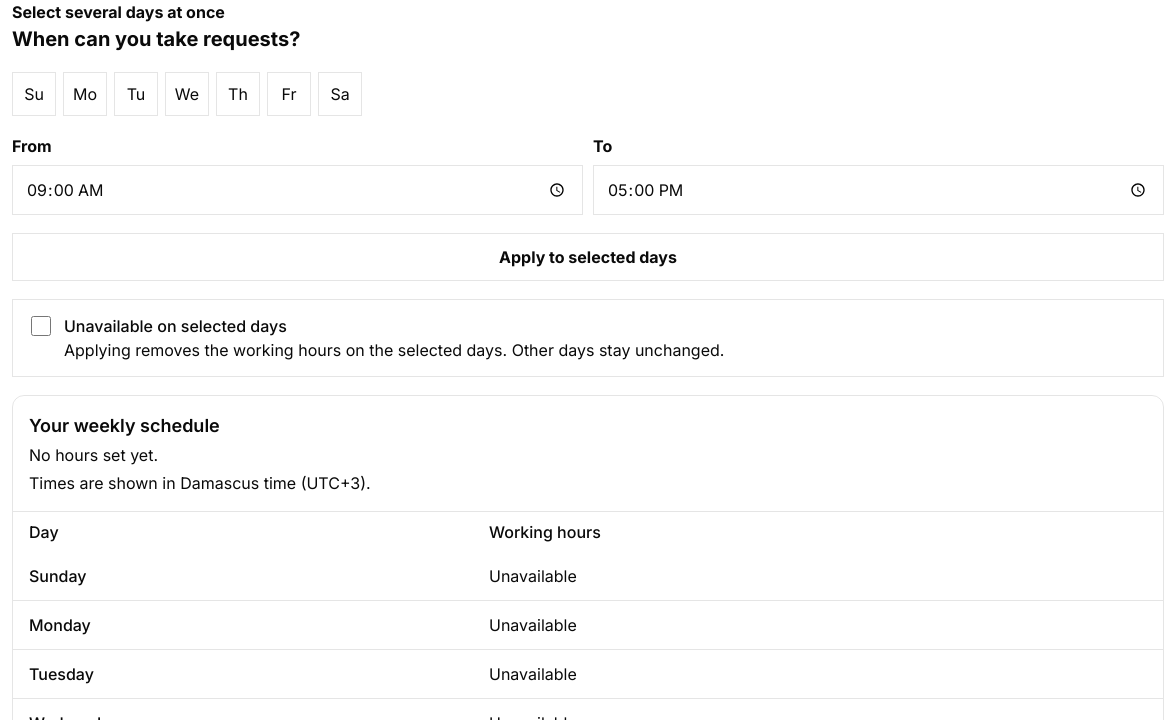
it: saving, and saying so truthfully › surfaces a CONCURRENCY conflict as a conflict, not as a generic error
What coordinates should you click on to do the following:
click the button with test id "day-toggle-1"
I would click on:
 (85, 94)
Its box is [63,72,107,116].
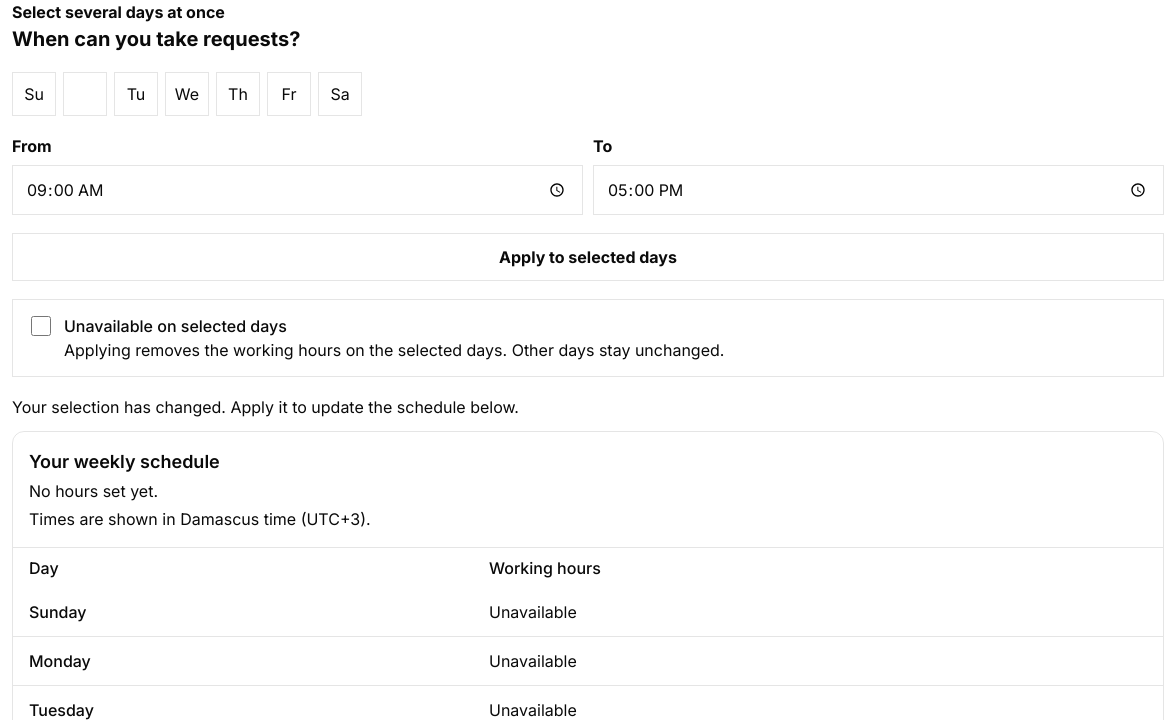
What coordinates should you click on to do the following:
click the button with test id "day-toggle-2"
I would click on:
 (136, 94)
Its box is [114,72,158,116].
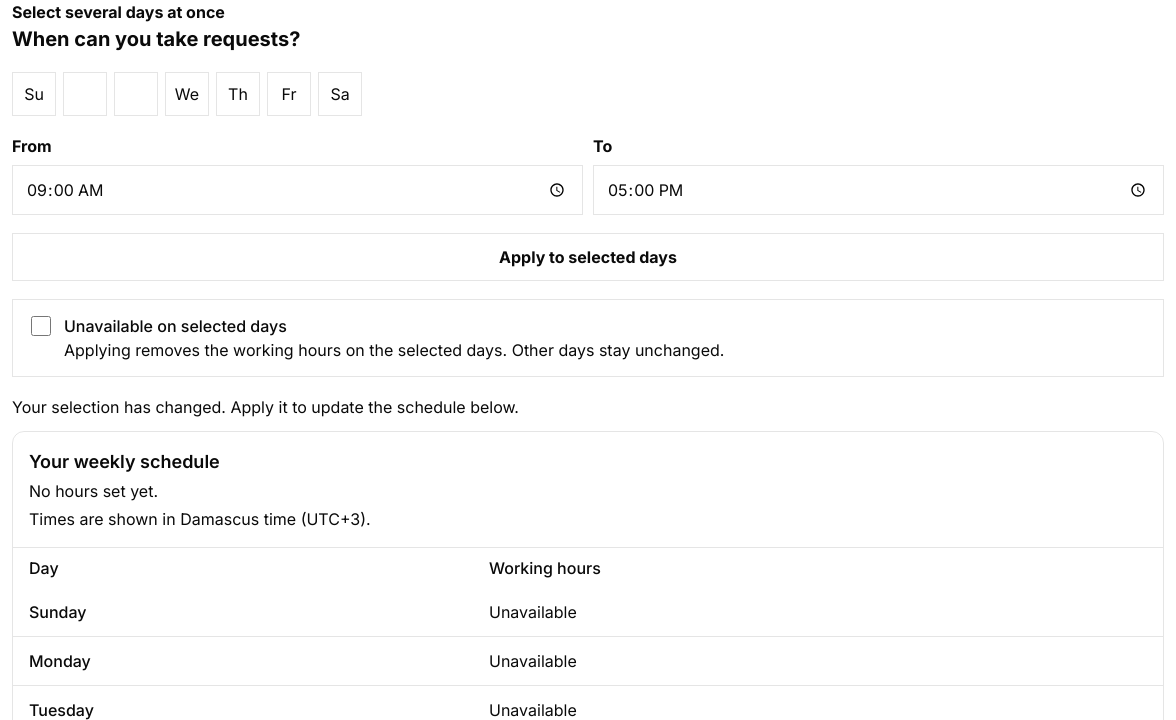
What coordinates should you click on to do the following:
click the button with test id "day-toggle-3"
I would click on:
 (187, 94)
Its box is [165,72,209,116].
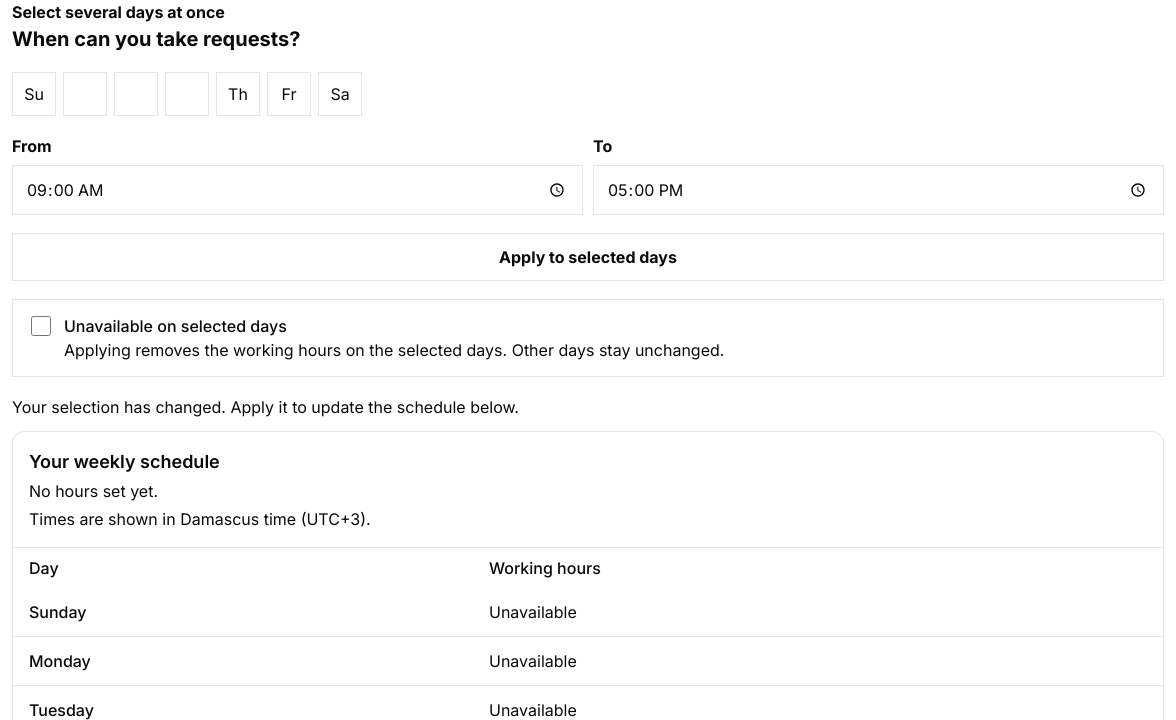
What coordinates should you click on to do the following:
click the button with test id "day-toggle-4"
I would click on:
 (238, 94)
Its box is [216,72,260,116].
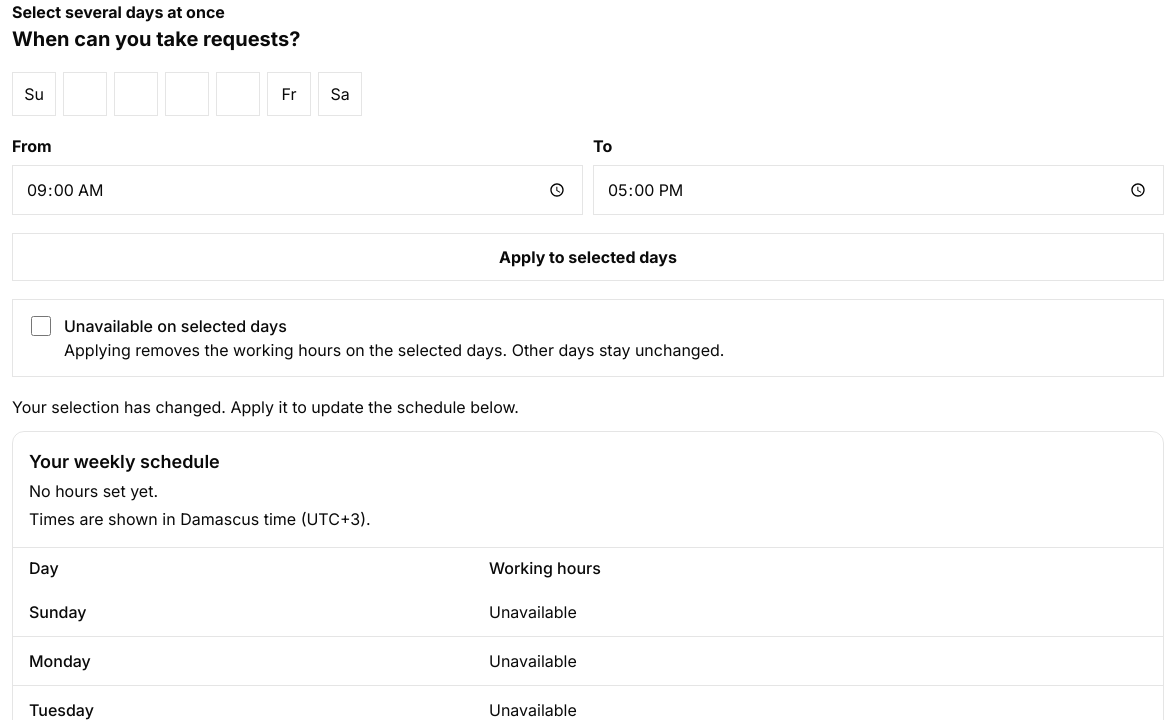
What coordinates should you click on to do the following:
click the button "Fr"
I would click on:
 (289, 94)
Its box is [267,72,311,116].
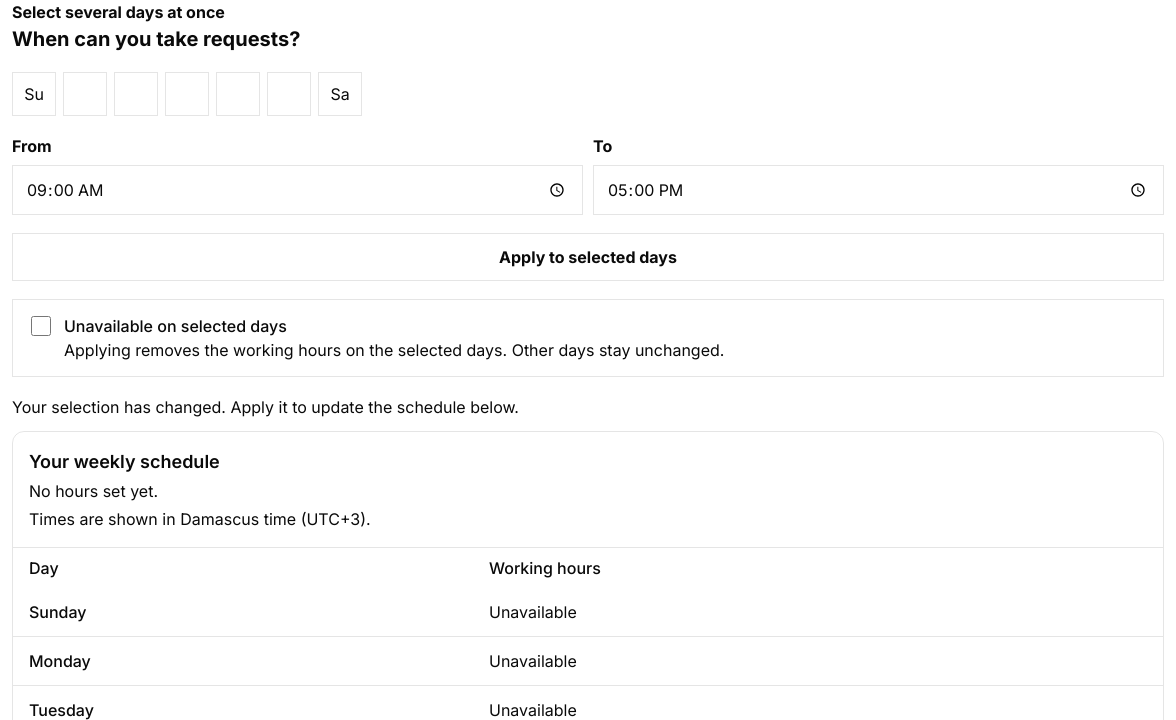
What coordinates should you click on to do the following:
click the button with test id "apply-to-selected"
I would click on:
 (588, 257)
Its box is [12,233,1164,281].
(page scrolled)
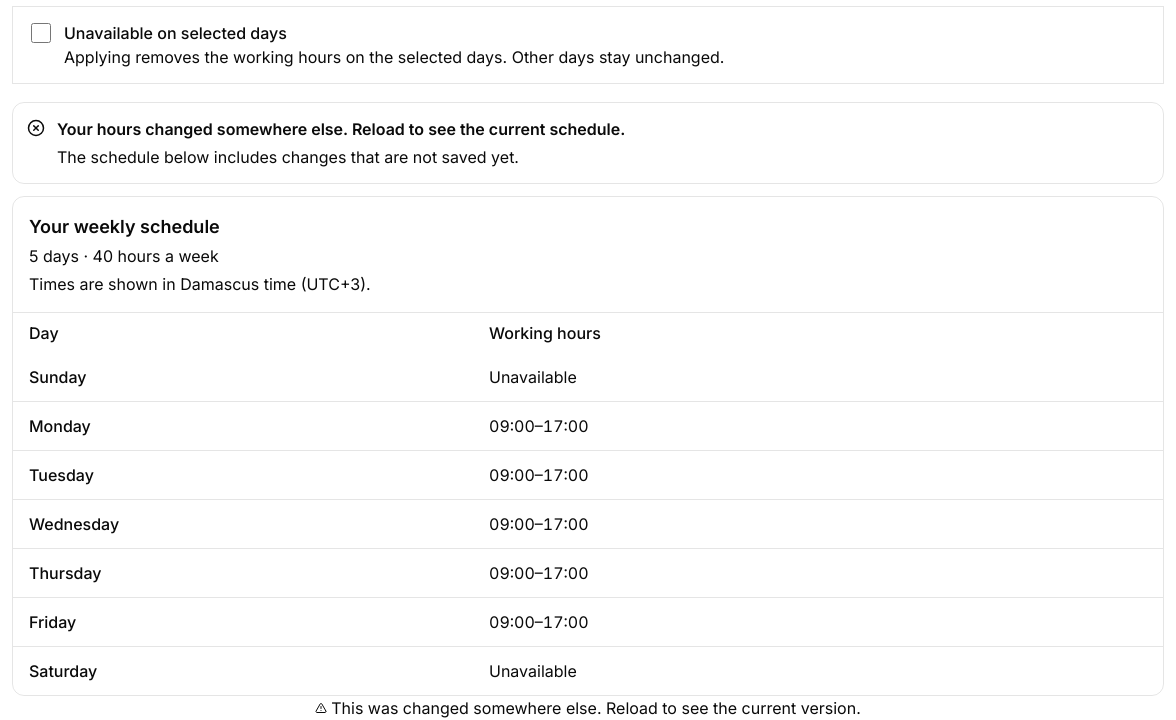
Expected: the message with test id "availability-save-status" reads "This was changed somewhere else. Reload to see the current version.", [331,698,861,718]
